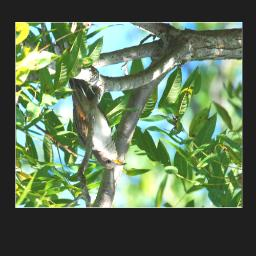Cuckoo: (69, 79, 127, 170)
